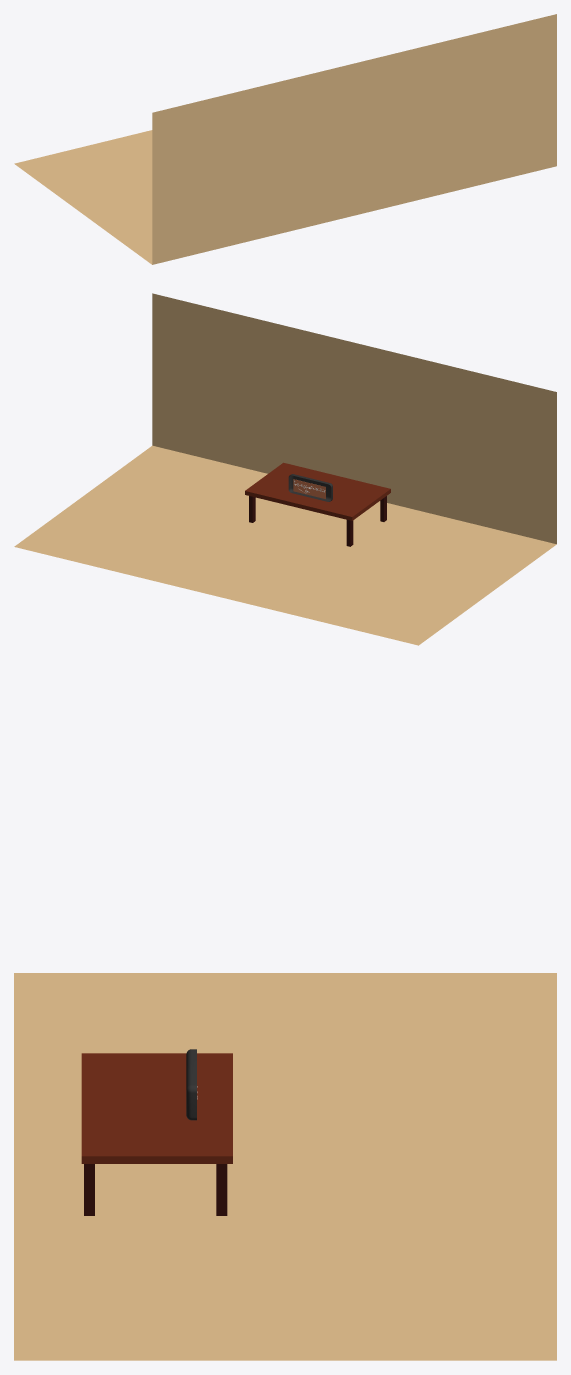
Rendered from superheterodyne.gltf.
The picture shows the model from 3 angles, top to bottom: view 1: azimuth 30°, elevation 25°; view 2: azimuth 150°, elevation 25°; view 3: azimuth 270°, elevation 25°; orthographic projection. The views are drawn at different scales.
Visible parts, largest first — view 1: bg.001; view 2: bg.001, table, radioCut; view 3: bg.001, table.
Boxes of the visible parts, box(x1,y1,x2,y2) form: bg.001: box(14, 14, 556, 264); bg.001: box(14, 293, 556, 645); table: box(245, 462, 390, 546); radioCut: box(288, 474, 332, 501); bg.001: box(14, 973, 556, 1360); table: box(81, 1053, 232, 1215).
Size of the model in its own units: 49.18 by 17.68 by 29.12.
